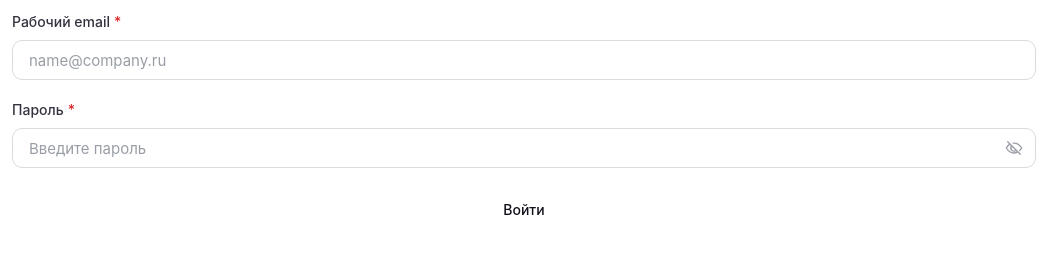
Test: LoginForm — server errors › VALIDATION_ERROR с polem password → inline-ошибка
Type "user@example.com" into the field labelled "Рабочий email *". click: (524, 60)
box: [12,40,1036,80]
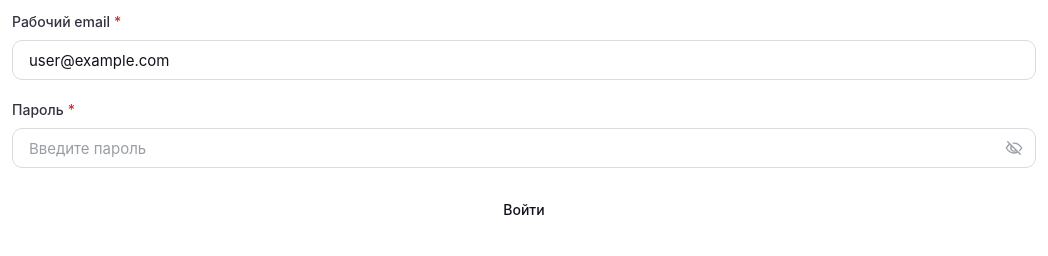
Type "validpass" into the password field labelled "Пароль *". click: (524, 148)
box: [12,128,1036,168]
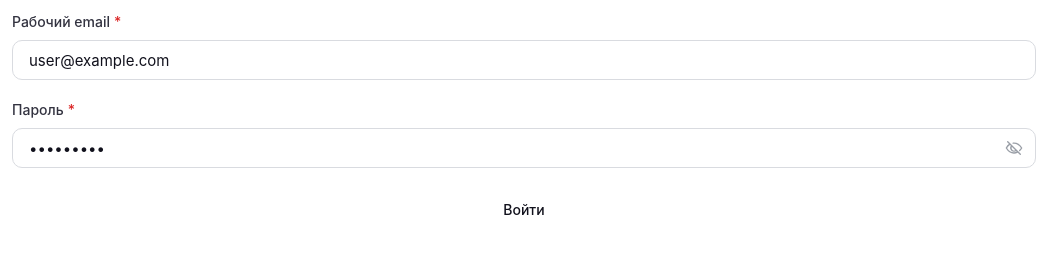
Submit the form labelled "Рабочий email * Пароль * Войти"
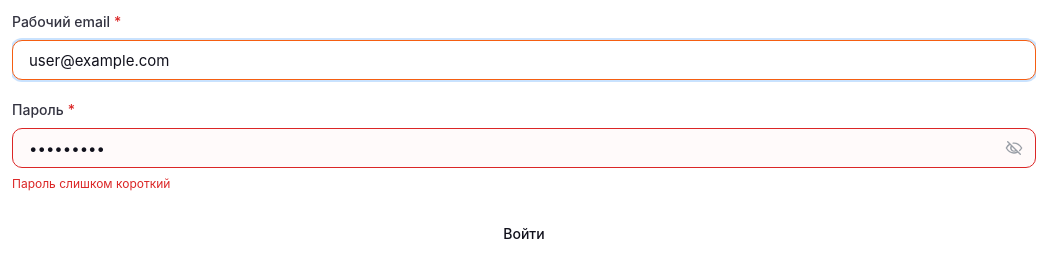
Check: the text "Пароль слишком короткий" is shown, box [12,176,170,191]
